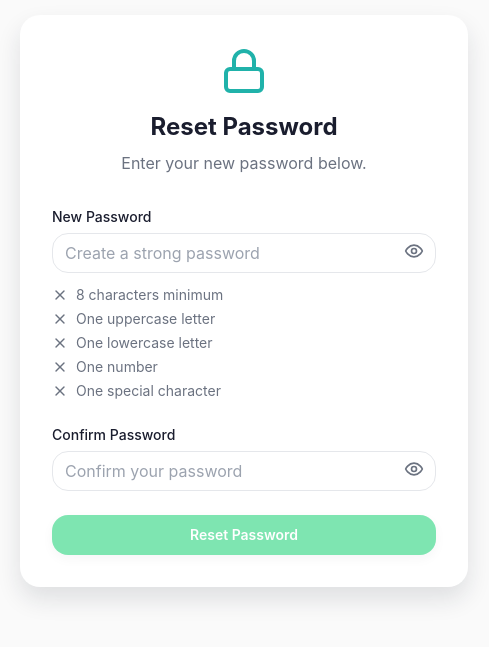
Test case: TenantResetPasswordPage › Password Validation › should validate passwords match
Type "StrongPass123!" into the password field labelled "New Password" at (244, 253), box [52, 233, 436, 273]
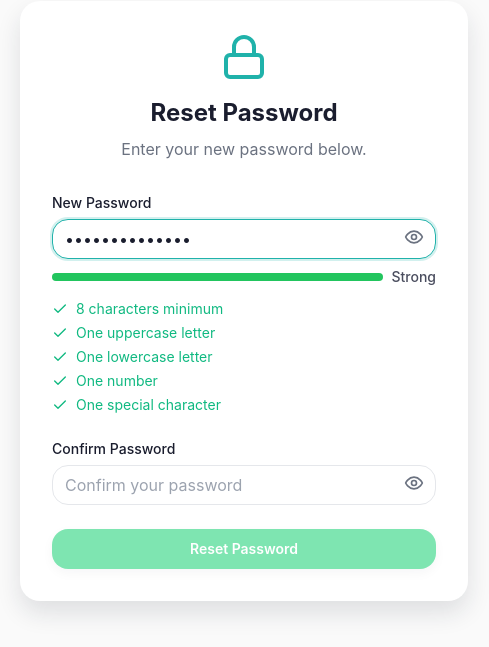
Type "DifferentPass123!" into the password field labelled "Confirm Password" at (244, 485), box [52, 465, 436, 505]
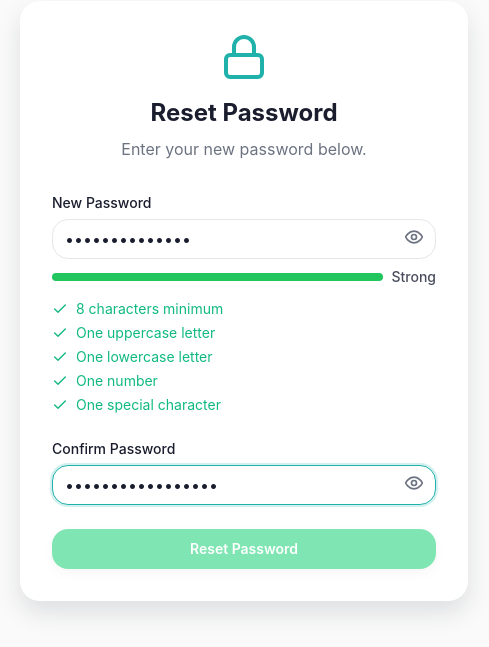
Click the button "Reset Password" at (244, 549), box [52, 529, 436, 569]
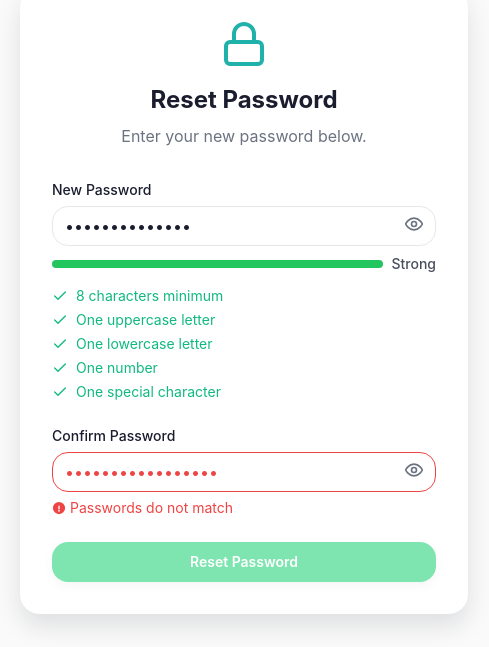
Expected: the text "Passwords do not match" is shown, [52, 499, 233, 516]
